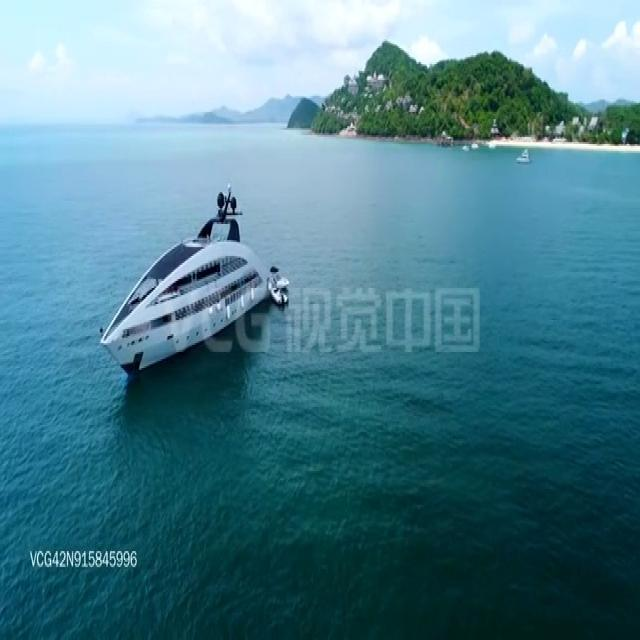houseboat: (268, 258, 295, 303), (517, 146, 531, 166)
passenger ship: (99, 180, 268, 370)
